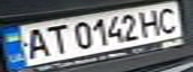0: (69, 19, 93, 49)
1: (90, 16, 109, 46)
2: (118, 11, 142, 42)
4: (106, 12, 127, 44)
A: (18, 25, 54, 60)
C: (151, 3, 184, 34)
H: (136, 7, 166, 37)
T: (39, 22, 69, 55)
